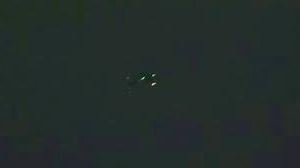Plane: (132, 70, 168, 91)
